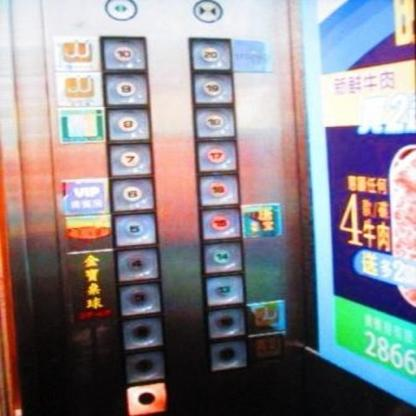10: (97, 33, 148, 70)
13: (201, 274, 245, 307)
14: (198, 240, 245, 274)
15: (196, 206, 242, 240)
16: (194, 172, 240, 206)
17: (192, 138, 238, 172)
18: (190, 105, 236, 139)
19: (188, 68, 234, 102)
20: (186, 36, 233, 70)
3: (113, 282, 163, 316)
4: (112, 247, 161, 280)
5: (107, 212, 157, 245)
6: (106, 176, 155, 210)
7: (103, 141, 153, 176)
8: (102, 106, 152, 141)
9: (100, 70, 149, 106)
blur: (118, 316, 164, 349), (120, 350, 166, 383), (124, 382, 166, 415), (204, 307, 246, 339), (204, 339, 246, 371)
close: (188, 0, 225, 23)
open: (100, 0, 138, 21)
